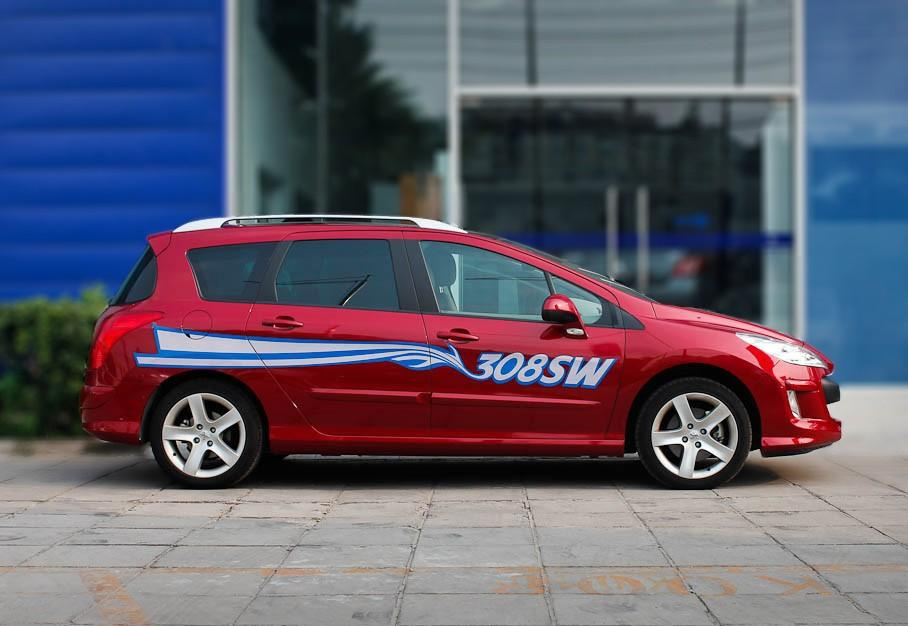Wagon: (75, 213, 844, 490)
